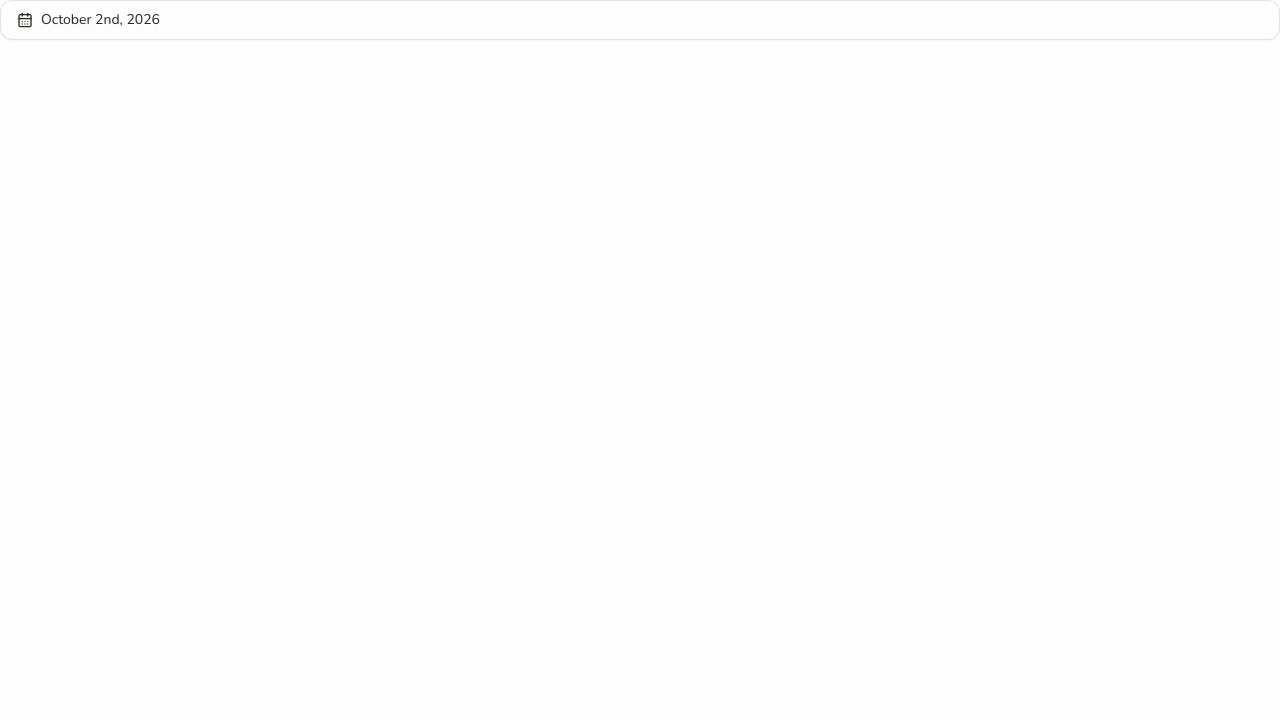
Test: DatePicker › will not pick a disabled day
The image size is (1280, 720).
What coordinates should you click on to do the following:
click the button "October 2nd, 2026"
I would click on:
 (100, 20)
Its box is [0,0,1279,40].
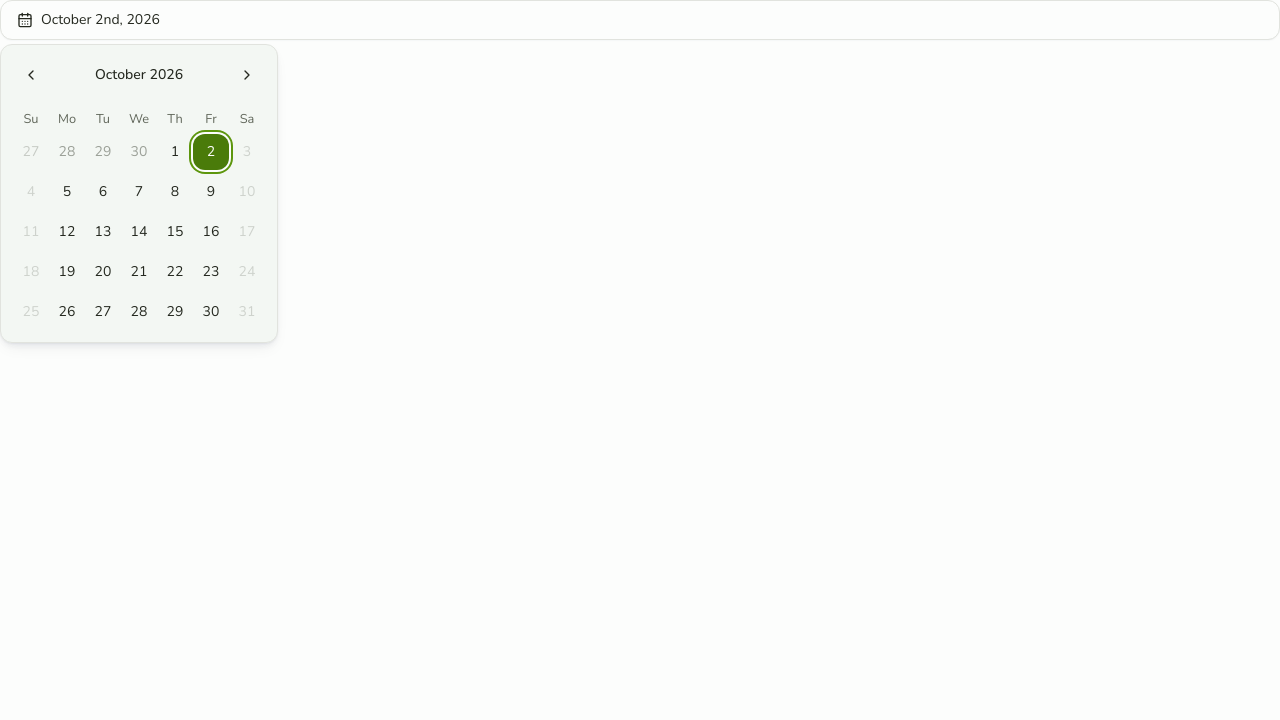
Check: the button named "October 3rd, 2026" is disabled, box [229,134,265,170]
